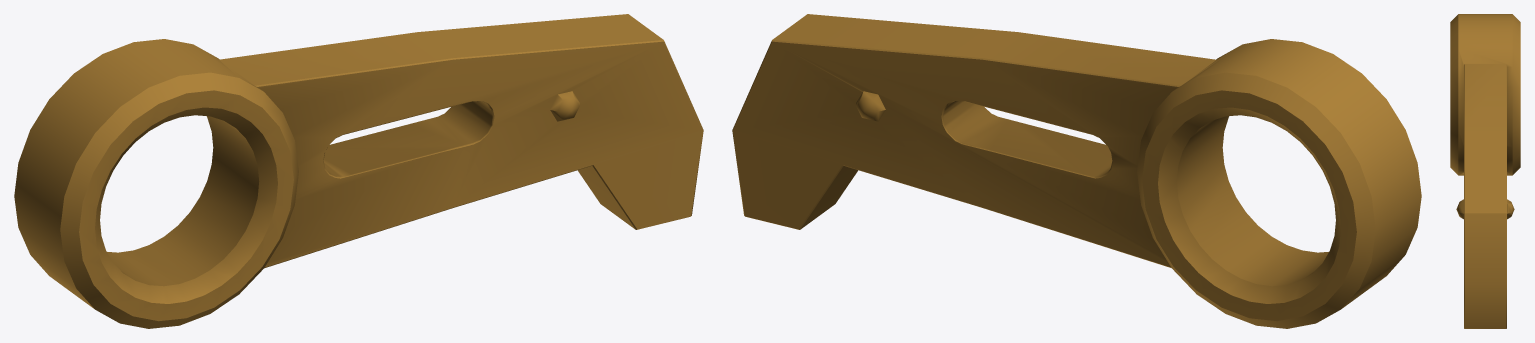
Rendered from pawl_standard.glb.
3 renders of one model, left to right at view 1: azimuth 30°, elevation 25°; view 2: azimuth 150°, elevation 25°; view 3: azimuth 270°, elevation 25°, orthographic. The views are drawn at different scales.
Parts seen in each view (by area): view 1: Pawl_Standard; view 2: Pawl_Standard; view 3: Pawl_Standard.
Part boxes in pixels (box(x1,y1,x2,y2)): Pawl_Standard: box(14, 14, 703, 328); Pawl_Standard: box(732, 14, 1421, 328); Pawl_Standard: box(1450, 14, 1520, 328).
Size of the model in its own units: 0.0326 by 0.013 by 0.0052.
